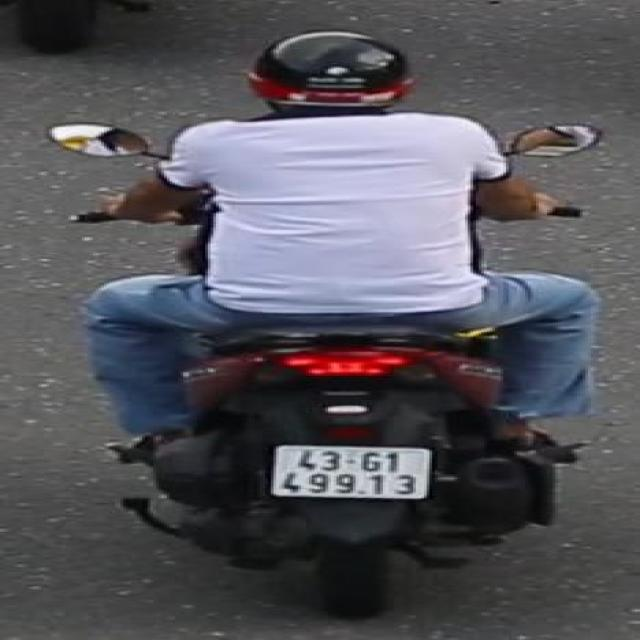LP: (265, 442, 438, 506)
helmet: (241, 27, 429, 128)
